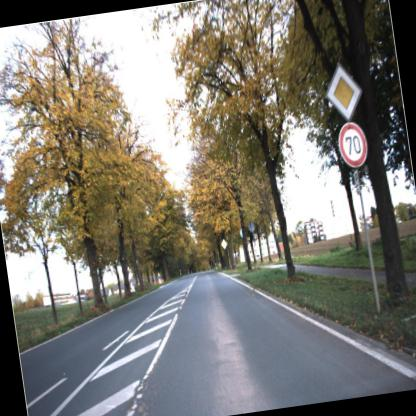other: (322, 60, 366, 122)
prohibitory: (336, 120, 370, 172)
